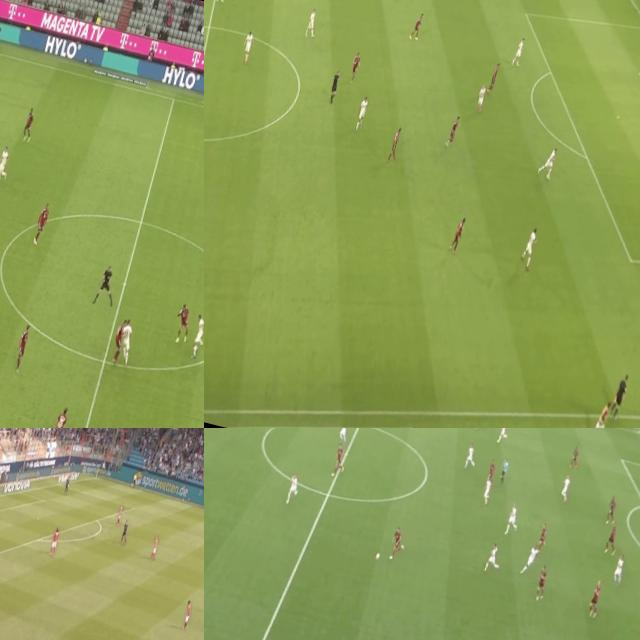ball: (372, 546, 384, 564), (194, 344, 198, 351)
player: (170, 298, 196, 346), (114, 317, 138, 368), (516, 227, 540, 271), (584, 576, 606, 622), (108, 316, 128, 366), (12, 322, 34, 366), (538, 140, 561, 180), (386, 523, 409, 562), (31, 200, 51, 244), (186, 309, 204, 357), (19, 100, 39, 140), (448, 212, 468, 252), (483, 57, 503, 97), (518, 542, 540, 578), (482, 538, 505, 572), (509, 32, 528, 72), (609, 549, 628, 587), (503, 499, 522, 534), (46, 402, 71, 428), (330, 443, 350, 475), (386, 124, 404, 159), (532, 564, 550, 599), (238, 29, 257, 62), (446, 113, 462, 150), (284, 471, 303, 502), (603, 522, 620, 556), (345, 48, 362, 80), (474, 78, 489, 114), (411, 3, 426, 38), (604, 494, 620, 526), (566, 442, 583, 472), (354, 96, 369, 129), (0, 144, 13, 180), (462, 442, 478, 470), (181, 596, 195, 626), (558, 472, 572, 501), (481, 473, 494, 504), (535, 522, 549, 548), (49, 526, 61, 556), (148, 531, 160, 558), (119, 518, 131, 542), (336, 428, 351, 446), (306, 6, 316, 32), (485, 458, 496, 481), (495, 428, 509, 444), (62, 474, 72, 495), (115, 503, 124, 521)
